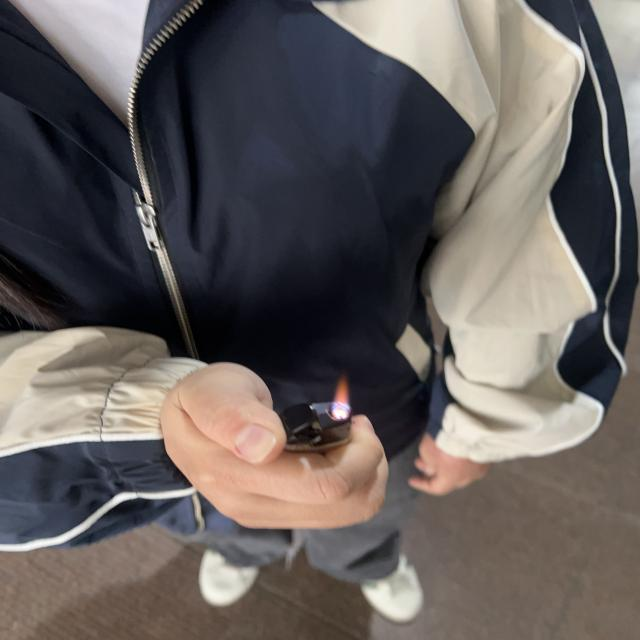fire: (332, 374, 353, 408)
